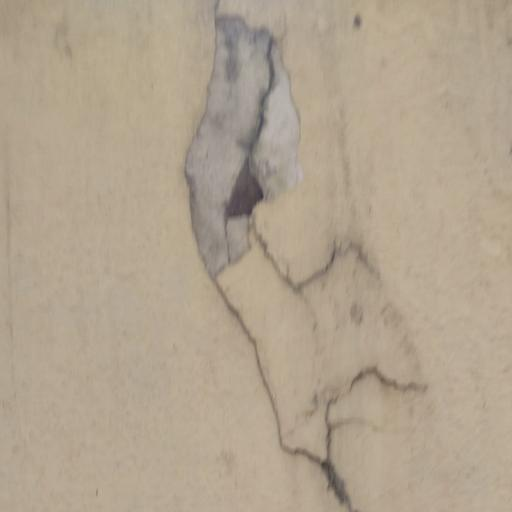peeling: (163, 4, 434, 512)
